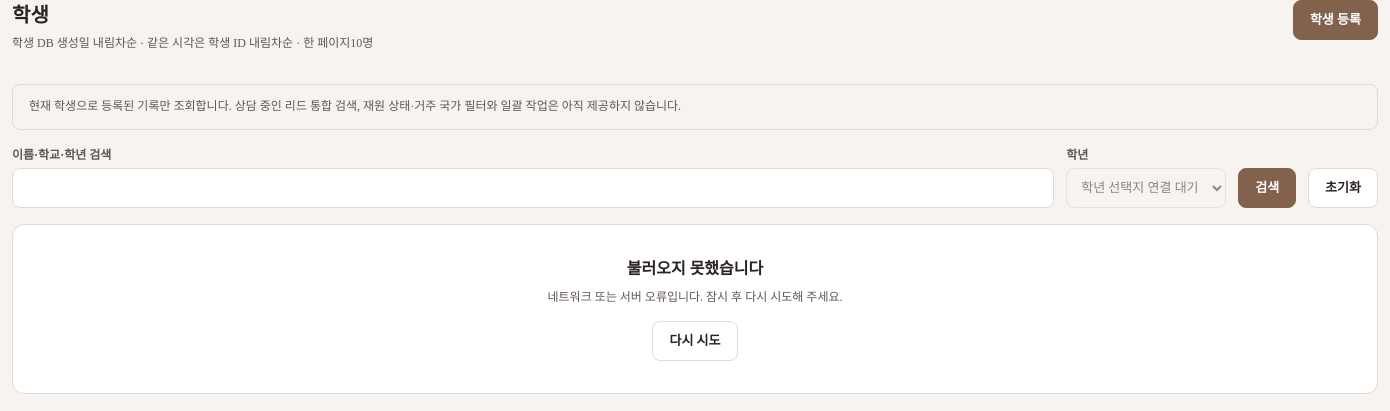
학생 목록과 생성 계약 › 조회 실패는 오류/재시도를 제공하고 데이터 성공으로 가장하지 않는다
This screenshot has width=1390, height=411.
Check: the message "불러오지 못했습니다 네트워크 또는 서버 오류입니다. 잠시 후 다시 시도해 주세요. 다시 시도" is shown, box top-left (12, 224), bottom-right (1378, 394)
Check: the link "학생A · G8" is not shown
Click the button "다시 시도" at point(695, 340), box top-left (652, 320), bottom-right (738, 360)
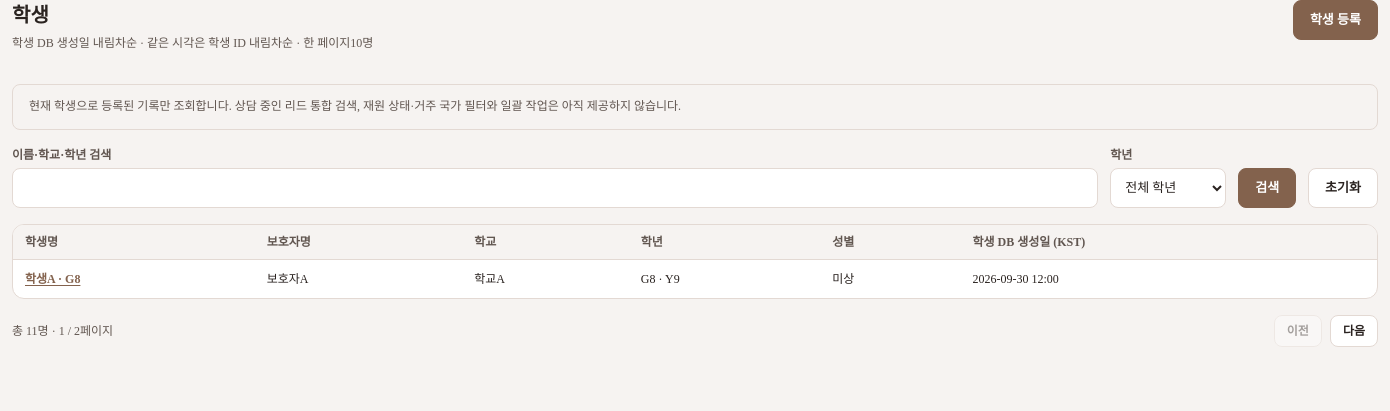
Check: the link "학생A · G8" is shown, box top-left (25, 272), bottom-right (80, 286)
